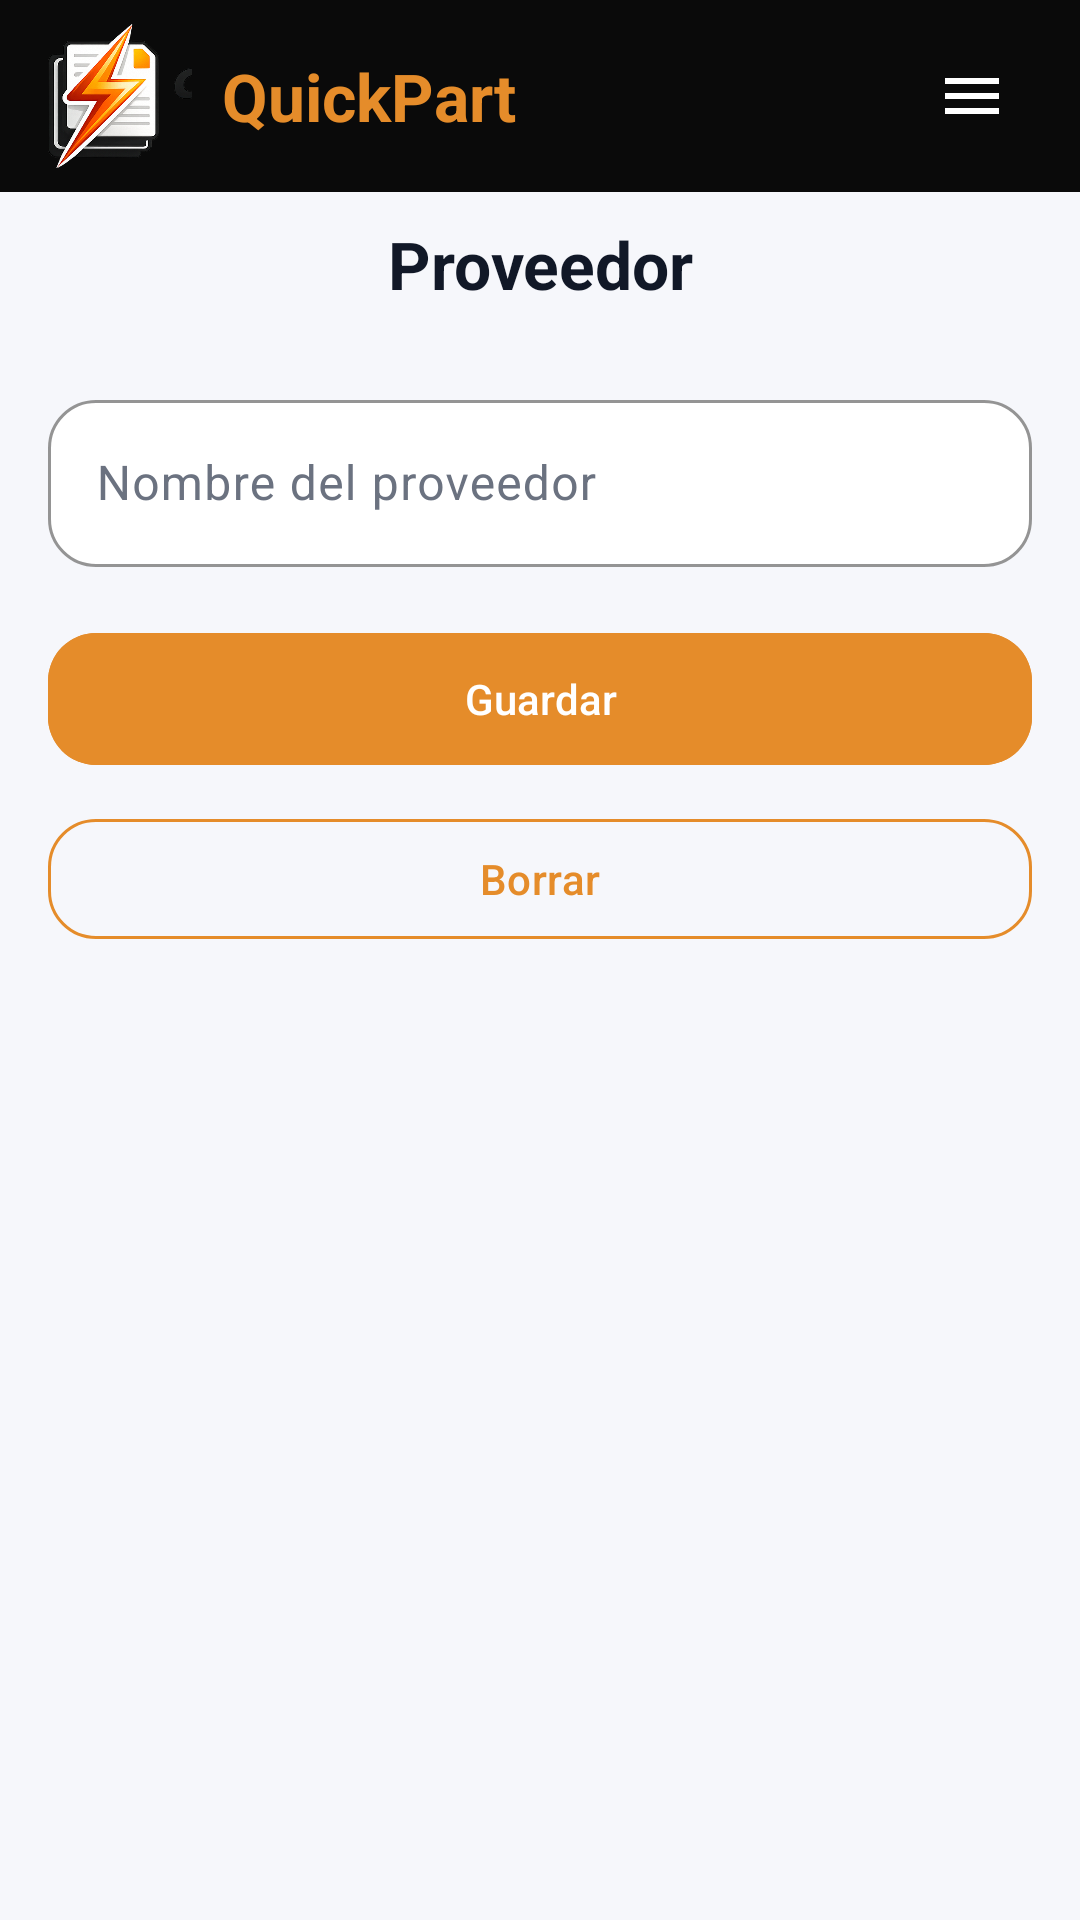

Named icons in this screenshot (1080x1920) and their bounding boxes, {"x1": x1, "y1": y1, "x2": x2, "y2": y2}:
Menu: {"x1": 945, "y1": 78, "x2": 999, "y2": 114}
